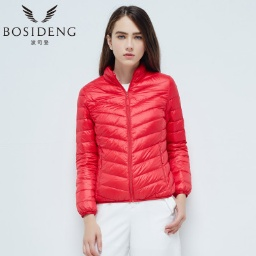face: (97, 6, 163, 70)
